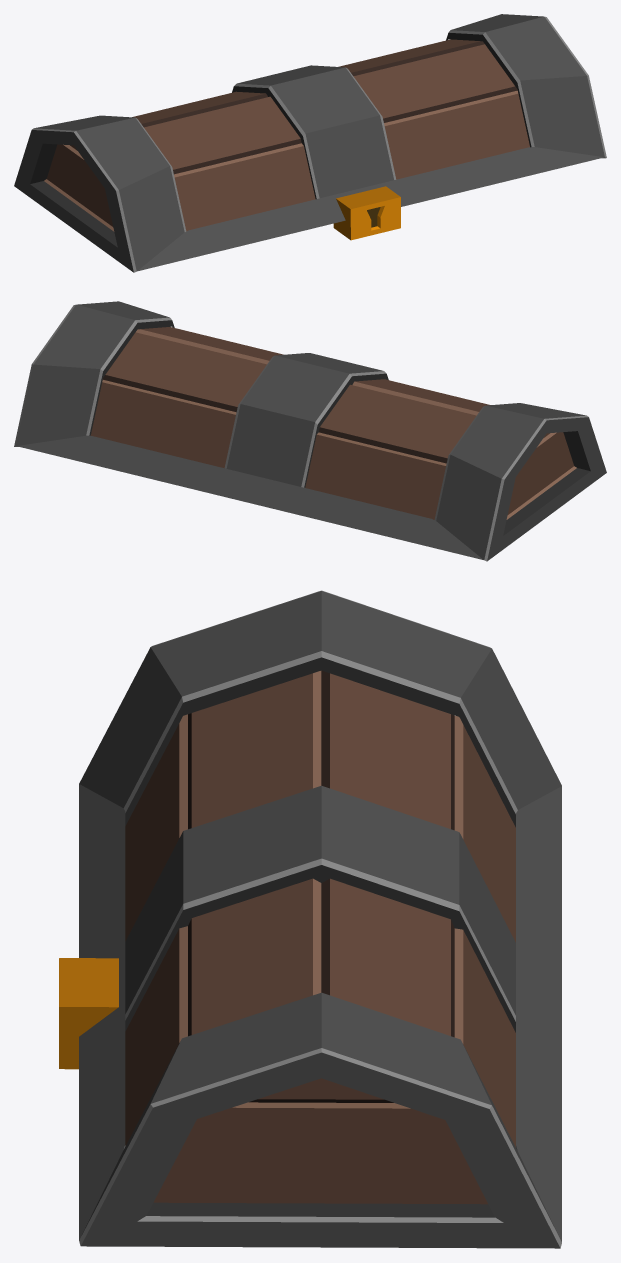
File: OpenChestTop_01.glb
3 renders of one model, top to bottom at view 1: azimuth 30°, elevation 25°; view 2: azimuth 150°, elevation 25°; view 3: azimuth 270°, elevation 25°, orthographic. The views are drawn at different scales.
Parts seen in each view (by area): view 1: OpenChestTop_01; view 2: OpenChestTop_01; view 3: OpenChestTop_01.
Boxes of the visible parts, x1,y1,x2,y2 form: OpenChestTop_01: [14, 14, 606, 272]; OpenChestTop_01: [14, 301, 606, 561]; OpenChestTop_01: [59, 590, 561, 1248].
Size of what is drawn, in the model's own units: 1.47 by 0.3347 by 0.677.
Materials: 1 (1 with a texture image).
